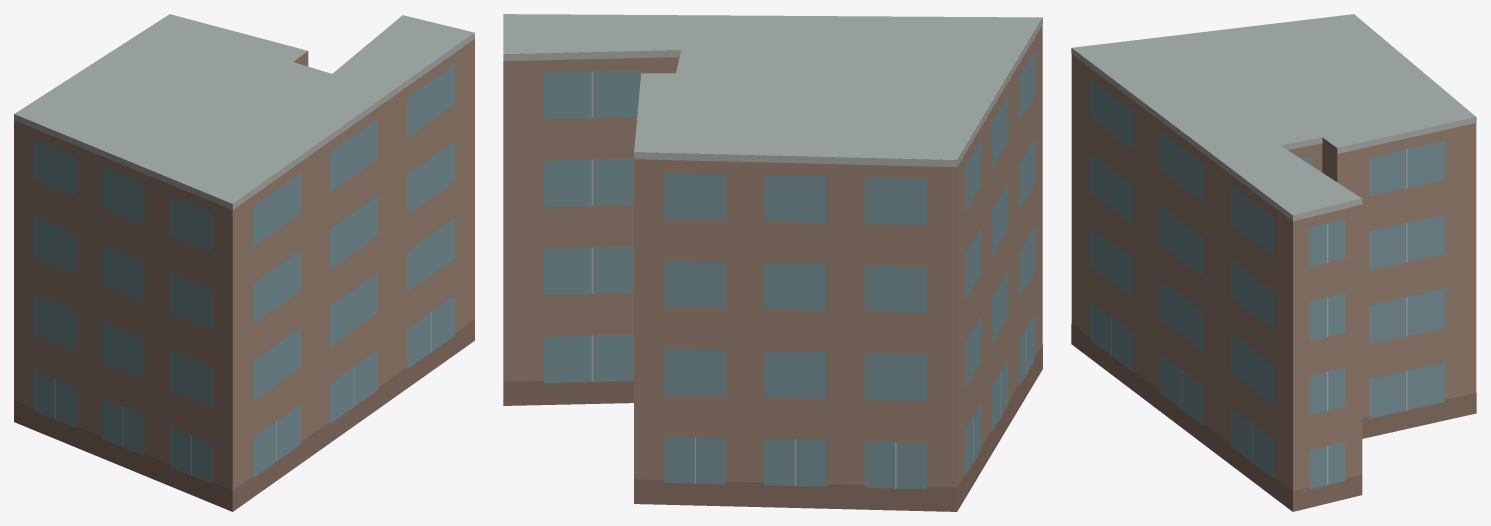
The model's file is survey-upis-32474702.glb.
The picture shows the model from 3 angles, left to right: view 1: azimuth 30°, elevation 25°; view 2: azimuth 150°, elevation 25°; view 3: azimuth 270°, elevation 25°; orthographic projection. The views are drawn at different scales.
Visible parts, largest first — view 1: survey-upis-32474702.tmp; view 2: survey-upis-32474702.tmp; view 3: survey-upis-32474702.tmp.
Boxes of the visible parts, x1=… form: survey-upis-32474702.tmp: x1=14, y1=14, x2=474, y2=511; survey-upis-32474702.tmp: x1=503, y1=14, x2=1042, y2=511; survey-upis-32474702.tmp: x1=1071, y1=14, x2=1476, y2=511.
Size of the model in its own units: 17.79 by 12.2 by 15.11.
